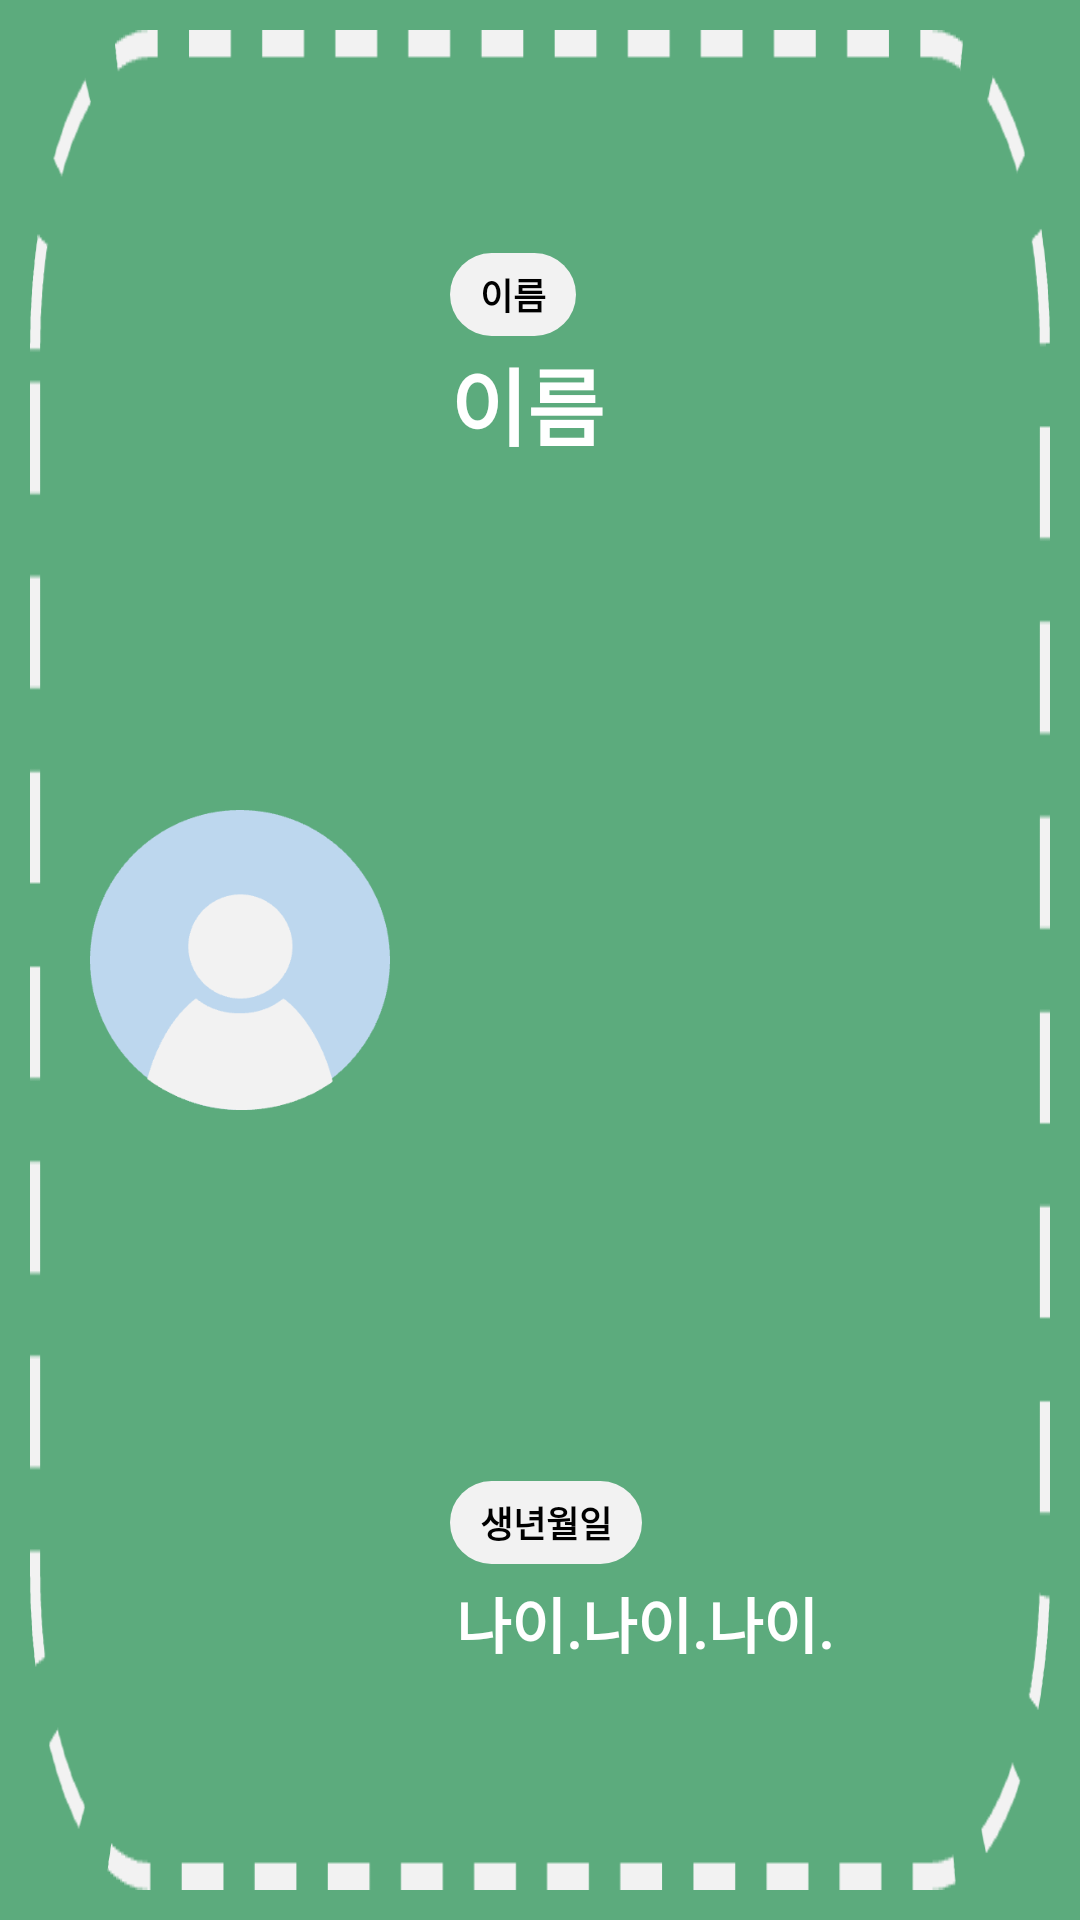

Named icons in this screenshot (1080*1920) and their bounding boxes, (x1, y1, x2, y2):
basic profile: (90, 810, 390, 1110)
